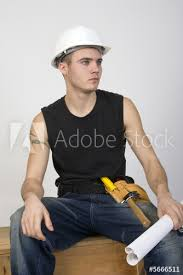Person_wearing_helmet: (47, 26, 111, 85)
